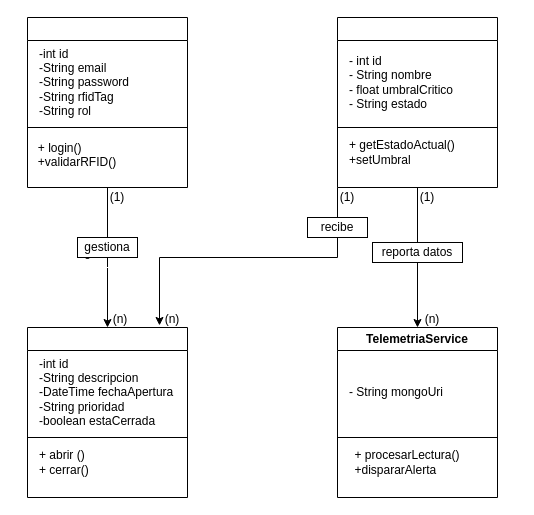
Some shapes in this 534 by 515 pixel diagram are drawn without their labels. The shapes that lost their labels are listed below. From the top down, each one's box as (x1, y1, x2, y2) in pixels, then its label:
(26, 16, 188, 188): USUARIO
(336, 16, 498, 188): MAQUINA
(26, 326, 188, 498): OrdenTrabajo
